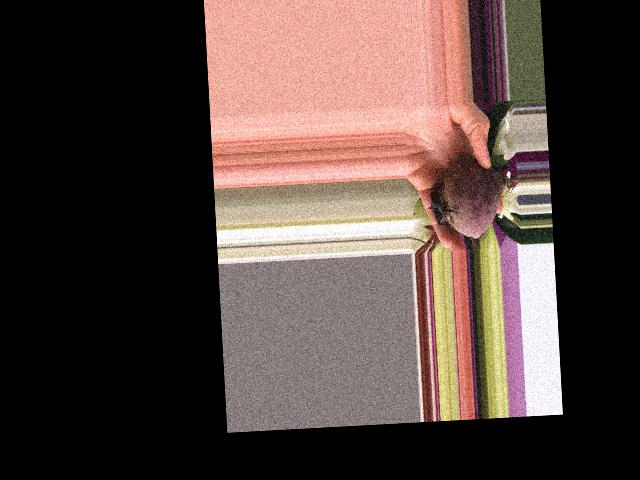beet: (425, 155, 520, 239)
